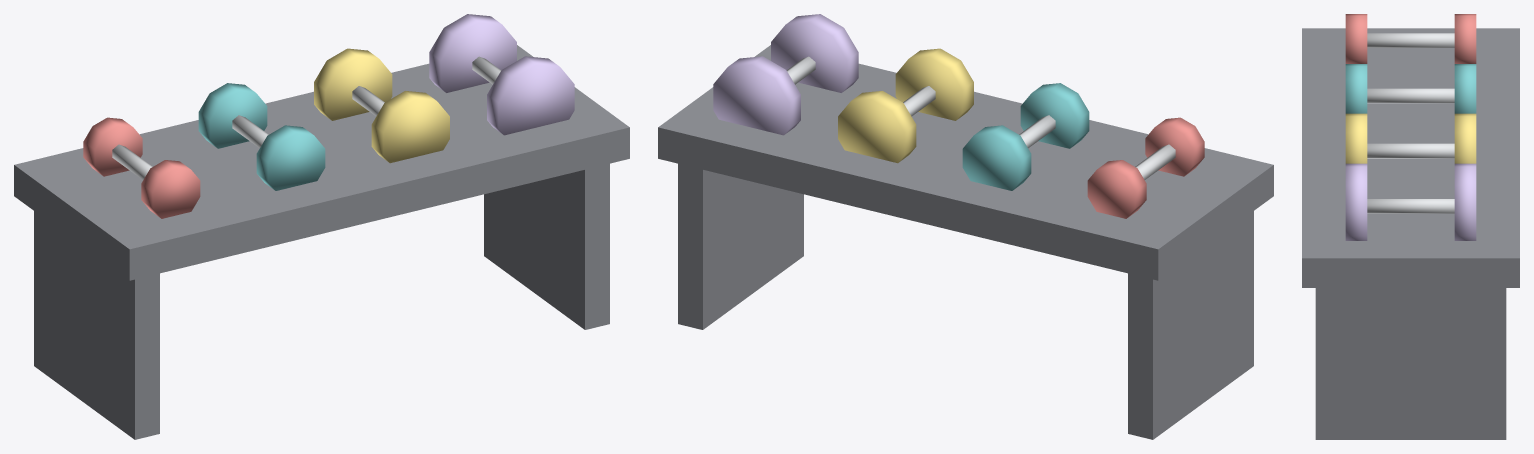
File: halteres.glb
The picture shows the model from 3 angles, left to right: view 1: azimuth 30°, elevation 25°; view 2: azimuth 150°, elevation 25°; view 3: azimuth 270°, elevation 25°; orthographic projection. The views are drawn at different scales.
Visible parts, largest first — view 1: halteres; view 2: halteres; view 3: halteres.
Part boxes in pixels (x1,y1,x2,y2): halteres: [14, 14, 629, 439]; halteres: [658, 14, 1273, 439]; halteres: [1302, 14, 1519, 439].
Size of the model in its own units: 1 by 0.5 by 0.4.
